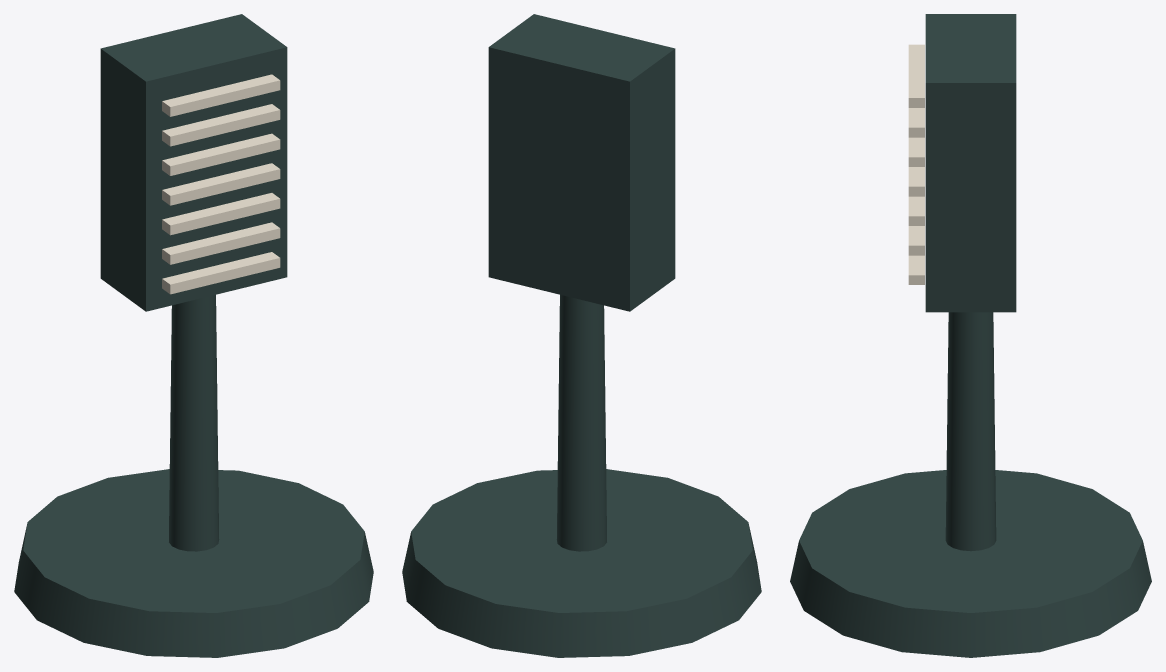
3 views of the same model, side by side, from view 1: azimuth 30°, elevation 25°; view 2: azimuth 150°, elevation 25°; view 3: azimuth 270°, elevation 25° (orthographic).
Visible parts, largest first — view 1: base, head, stem, grille1, grille4, grille5, grille0, grille2, grille3, grille6; view 2: base, head, stem; view 3: base, head, stem, grille6.
Part boxes in pixels (left/top/right/bottom): base: left=14, top=469, right=373, bottom=657; head: left=100, top=14, right=287, bottom=311; stem: left=169, top=294, right=219, bottom=551; grille1: left=162, top=222, right=280, bottom=264; grille4: left=162, top=133, right=280, bottom=175; grille5: left=162, top=104, right=280, bottom=146; grille0: left=162, top=252, right=280, bottom=294; grille2: left=162, top=193, right=280, bottom=235; grille3: left=162, top=163, right=280, bottom=205; grille6: left=162, top=74, right=280, bottom=116; base: left=402, top=469, right=761, bottom=657; head: left=488, top=14, right=675, bottom=311; stem: left=556, top=294, right=606, bottom=551; base: left=790, top=470, right=1151, bottom=657; head: left=925, top=14, right=1016, bottom=312; stem: left=945, top=312, right=996, bottom=551; grille6: left=908, top=44, right=924, bottom=107.
Size of the model in its own units: 0.2 by 0.325 by 0.2.
